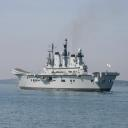Portanaves: (11, 37, 121, 93)
